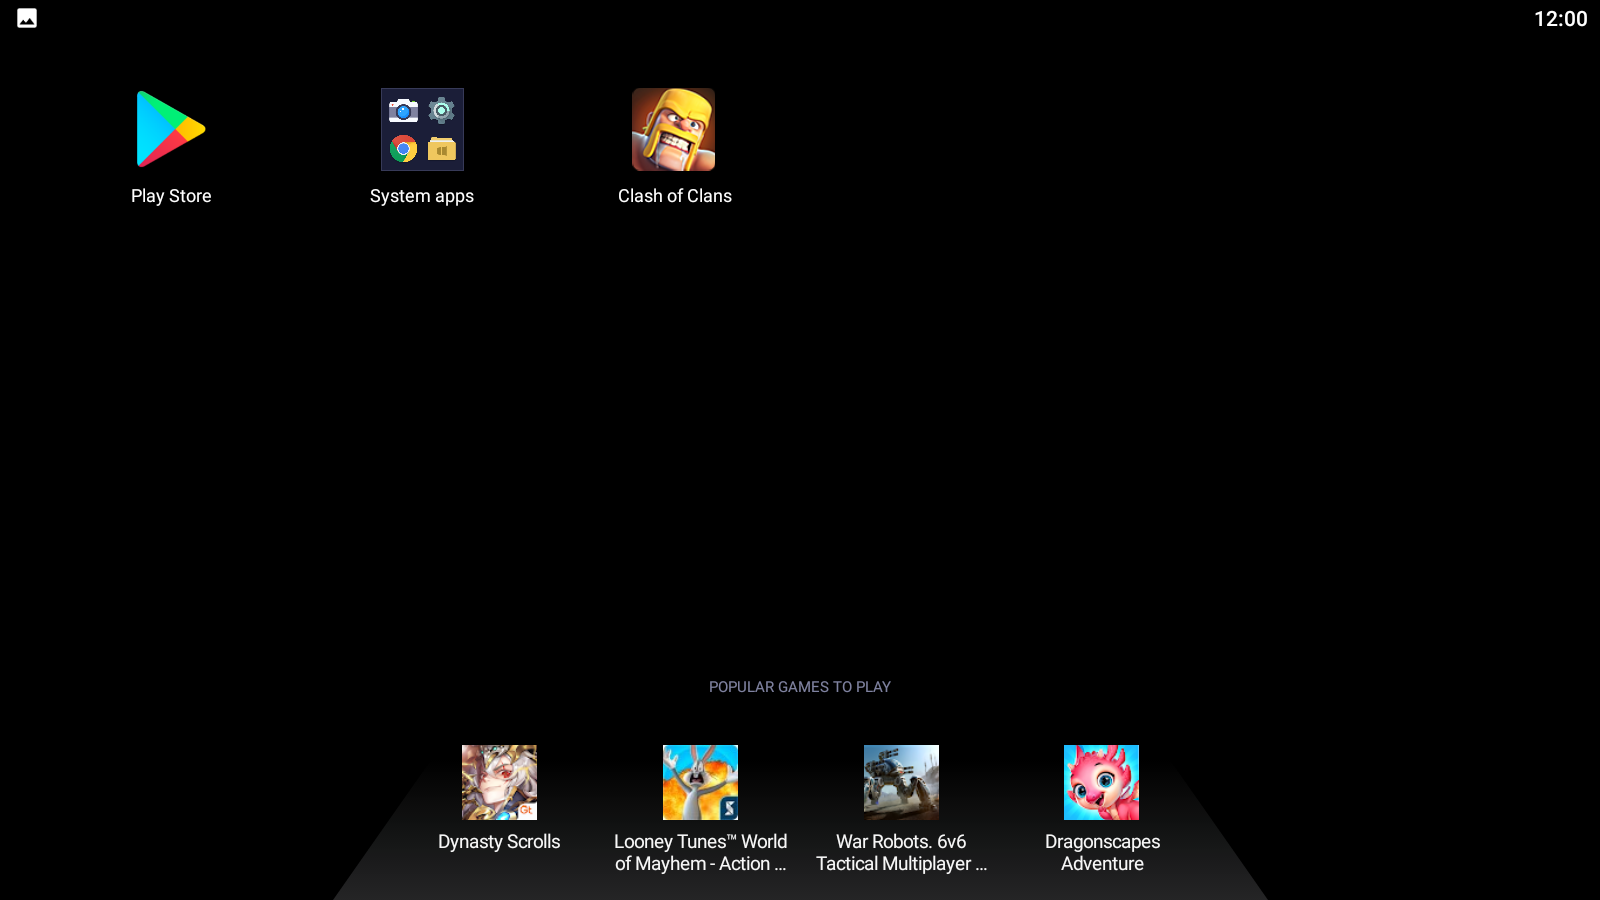clash_of_clans_app: (612, 68, 744, 214)
